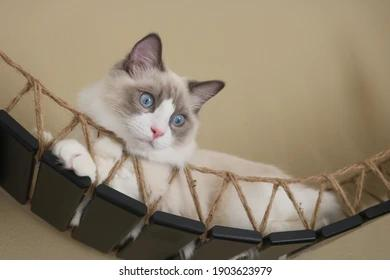ragdoll: (92, 19, 233, 182)
